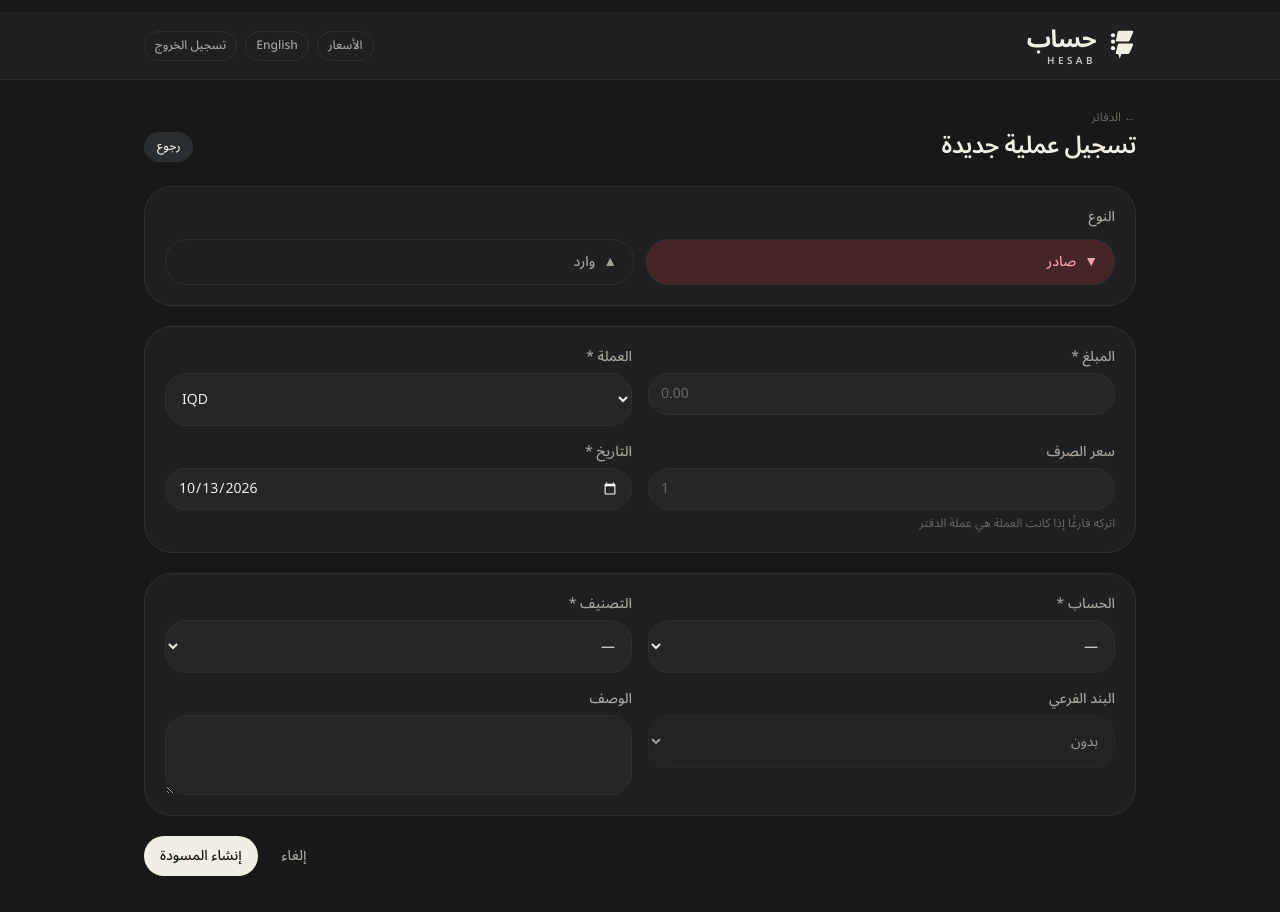
NewTransactionView › switches the draft type to income
The width and height of the screenshot is (1280, 912).
Click the radio button labelled "▲ وارد" at (610, 262), box [165, 240, 634, 286]
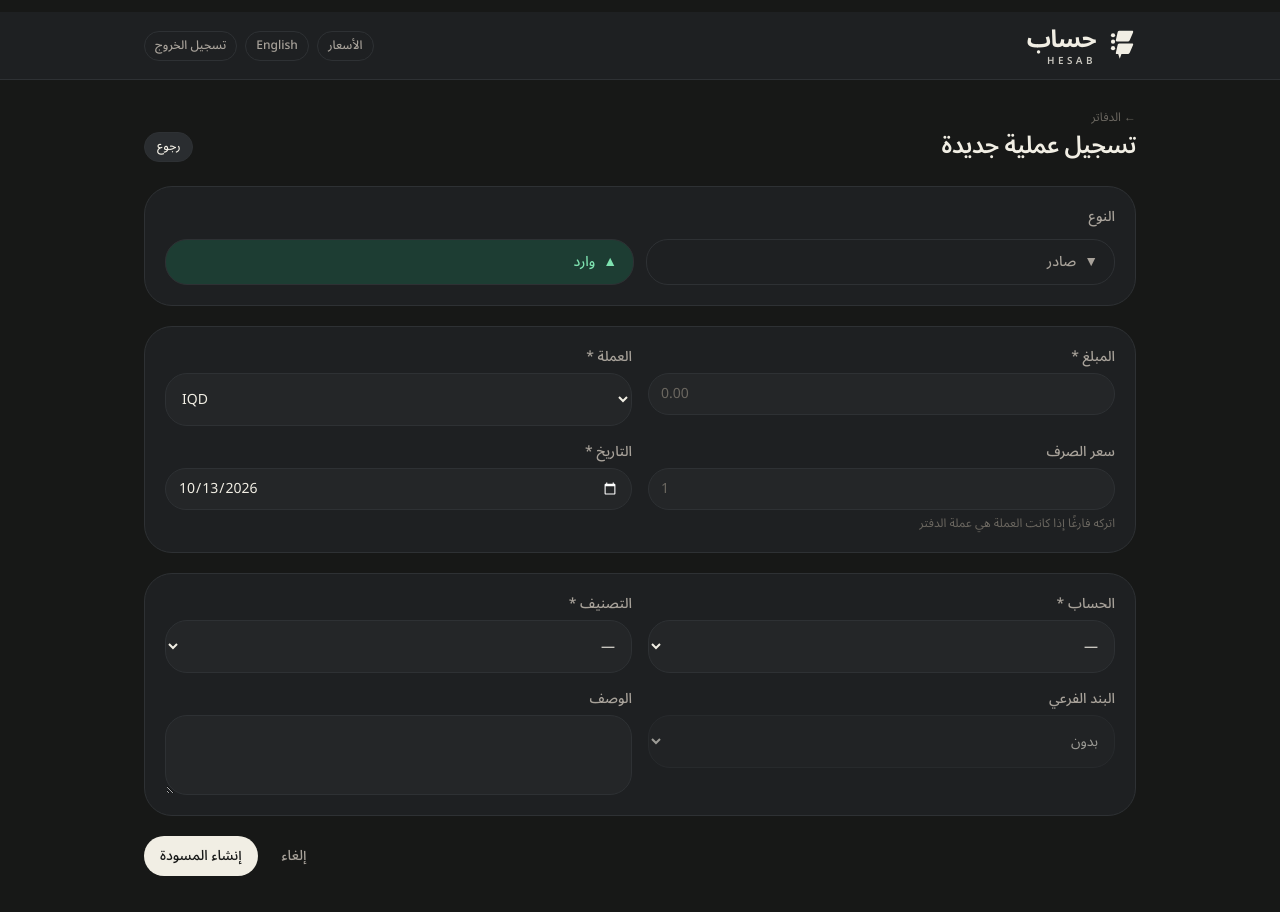
Result: the radio button labelled "▲ وارد" is checked at [165, 240, 634, 286]
Result: the radio button labelled "▼ صادر" is not checked at [646, 240, 1115, 286]
